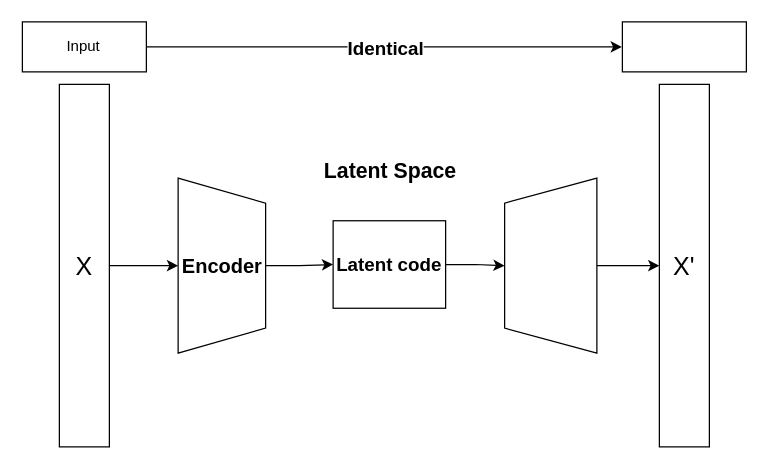
This 769x469 diagram has some shape labels left out. The shapes that lost their labels are listed below. From the top down, each one's box as (x1, y1, x2, y2) in pixels, then its label:
(621, 21, 746, 72): Reconstructed Input
(503, 177, 597, 353): De coder
